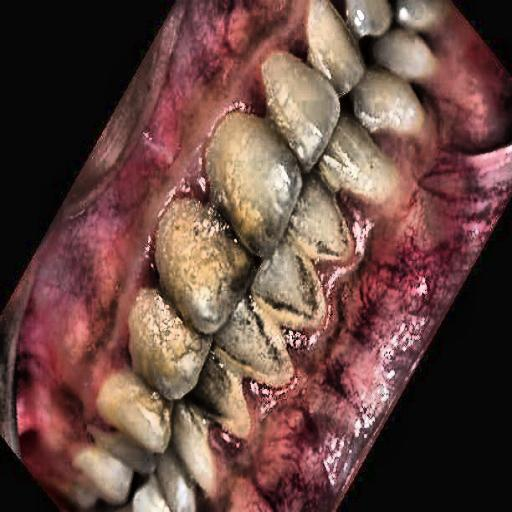Calculus: (106, 57, 357, 473)
